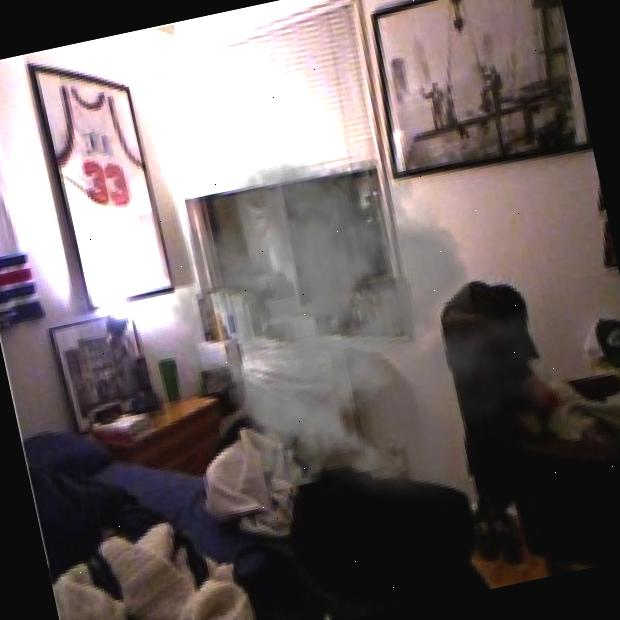smoke: (128, 77, 620, 553)
